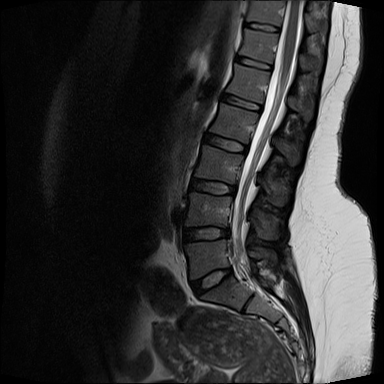Lumbar Disc Bulge (LDB): (180, 223, 237, 246)
Normal IVD: (184, 263, 235, 302), (198, 129, 252, 158), (216, 88, 266, 115), (187, 174, 239, 199), (232, 50, 276, 72), (241, 20, 284, 36)
Spinal Stenosis (SS): (223, 223, 233, 240)
